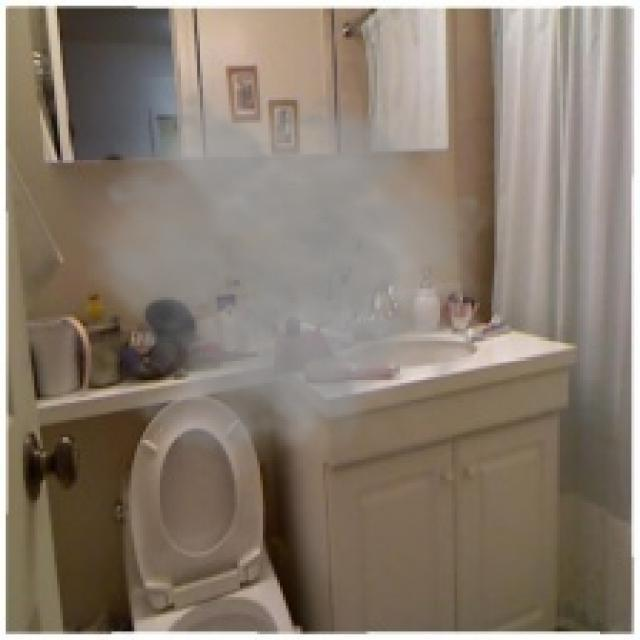Smoke: (72, 77, 497, 492)
